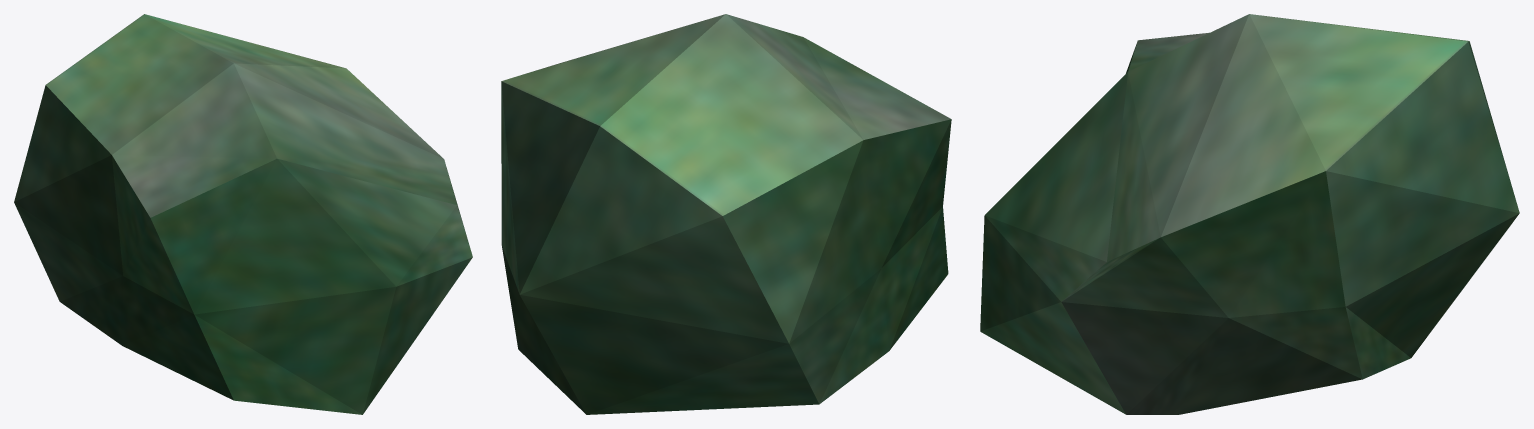
The model's file is rock.obj.
The picture shows the model from 3 angles, left to right: view 1: azimuth 30°, elevation 25°; view 2: azimuth 150°, elevation 25°; view 3: azimuth 270°, elevation 25°; orthographic projection. The views are drawn at different scales.
Parts seen in each view (by area): view 1: Cube; view 2: Cube; view 3: Cube.
Part boxes in pixels (x1=…): Cube: x1=14, y1=14, x2=472, y2=414; Cube: x1=501, y1=14, x2=951, y2=414; Cube: x1=980, y1=14, x2=1519, y2=414.
Size of the model in its own units: 2.1 by 2.01 by 2.77.
Materials: 1 (1 with a texture image).
